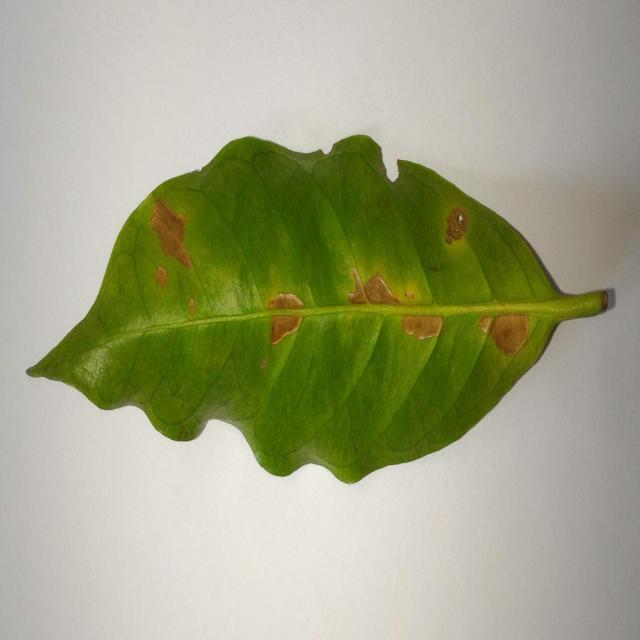Plaga-Minador: (25, 135, 617, 488)
